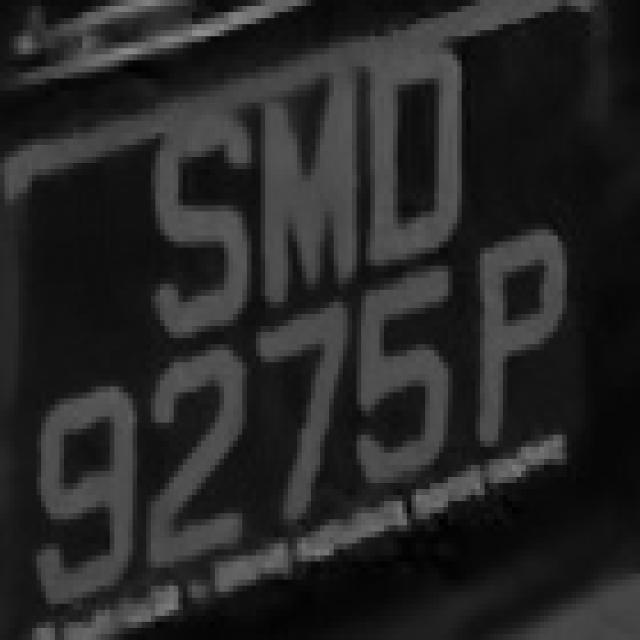2: (137, 350, 261, 580)
5: (352, 260, 466, 513)
7: (256, 308, 357, 555)
9: (32, 380, 142, 598)
D: (361, 24, 480, 278)
M: (247, 42, 370, 302)
P: (466, 229, 590, 477)
S: (142, 103, 256, 338)
